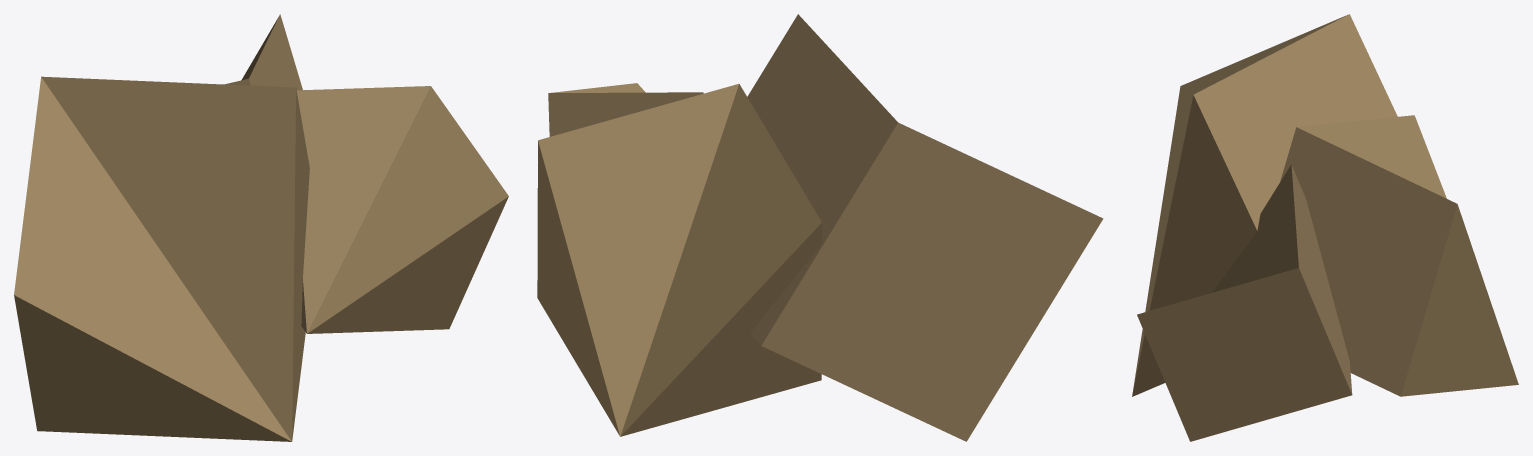
The model's file is Vegetable_Potatoes.glb.
3 renders of one model, left to right at view 1: azimuth 30°, elevation 25°; view 2: azimuth 150°, elevation 25°; view 3: azimuth 270°, elevation 25°, orthographic. The views are drawn at different scales.
Parts seen in each view (by area): view 1: vegetable_potatoes.001; view 2: vegetable_potatoes.001; view 3: vegetable_potatoes.001.
Boxes of the visible parts, bbox=[...] form: vegetable_potatoes.001: bbox=[14, 14, 508, 441]; vegetable_potatoes.001: bbox=[537, 14, 1103, 441]; vegetable_potatoes.001: bbox=[1132, 14, 1518, 441].
Size of the model in its own units: 0.3787 by 0.2483 by 0.2693.
